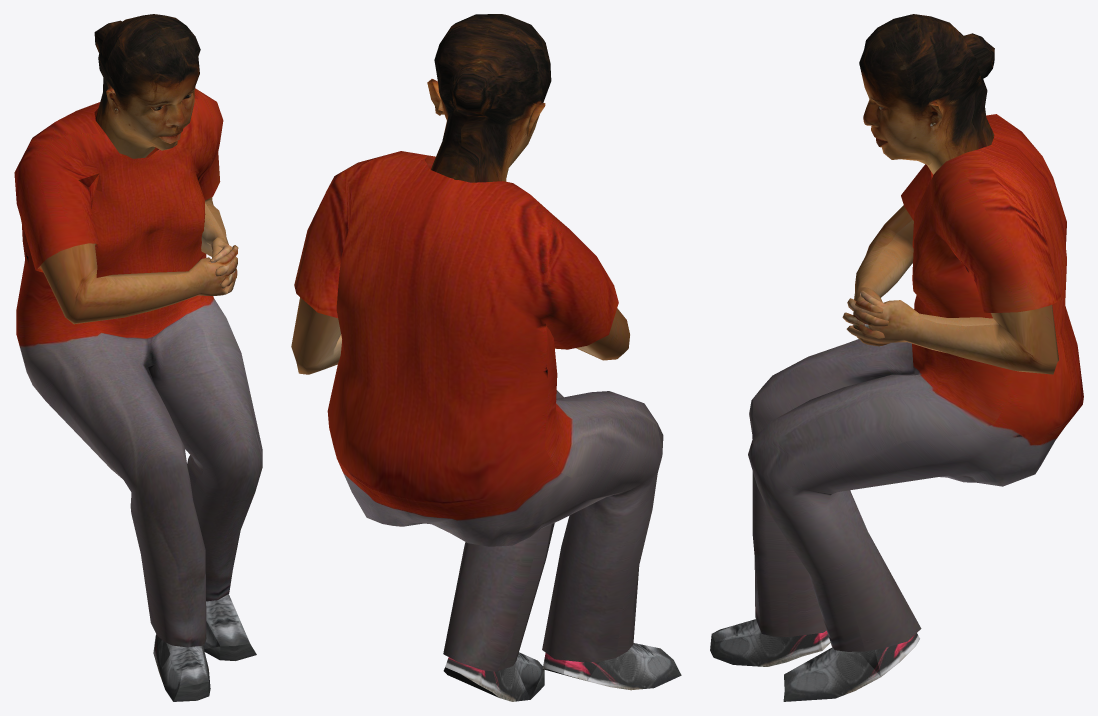
File: funv.FBX
The picture shows the model from 3 angles, left to right: view 1: azimuth 30°, elevation 25°; view 2: azimuth 150°, elevation 25°; view 3: azimuth 270°, elevation 25°; orthographic projection. The views are drawn at different scales.
Visible parts, largest first — view 1: cwom0006-se.layer01; view 2: cwom0006-se.layer01; view 3: cwom0006-se.layer01.
Boxes of the visible parts, left/top/right/bottom form: cwom0006-se.layer01: left=14, top=14, right=262, bottom=701; cwom0006-se.layer01: left=291, top=14, right=681, bottom=701; cwom0006-se.layer01: left=710, top=14, right=1083, bottom=701.
Size of the model in its own units: 1.25 by 3.29 by 1.69.
